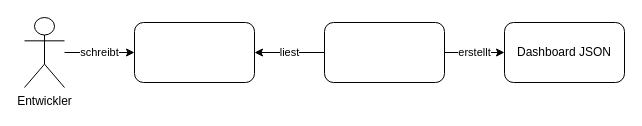
The diagram is 642 pixels wide and 126 high, and some of its shapes have lost their labels. Each missing label, with the centre of its shape:
"Dashboard Code" belongs at point 194,52.
"Scripting Library" belongs at point 384,52.
